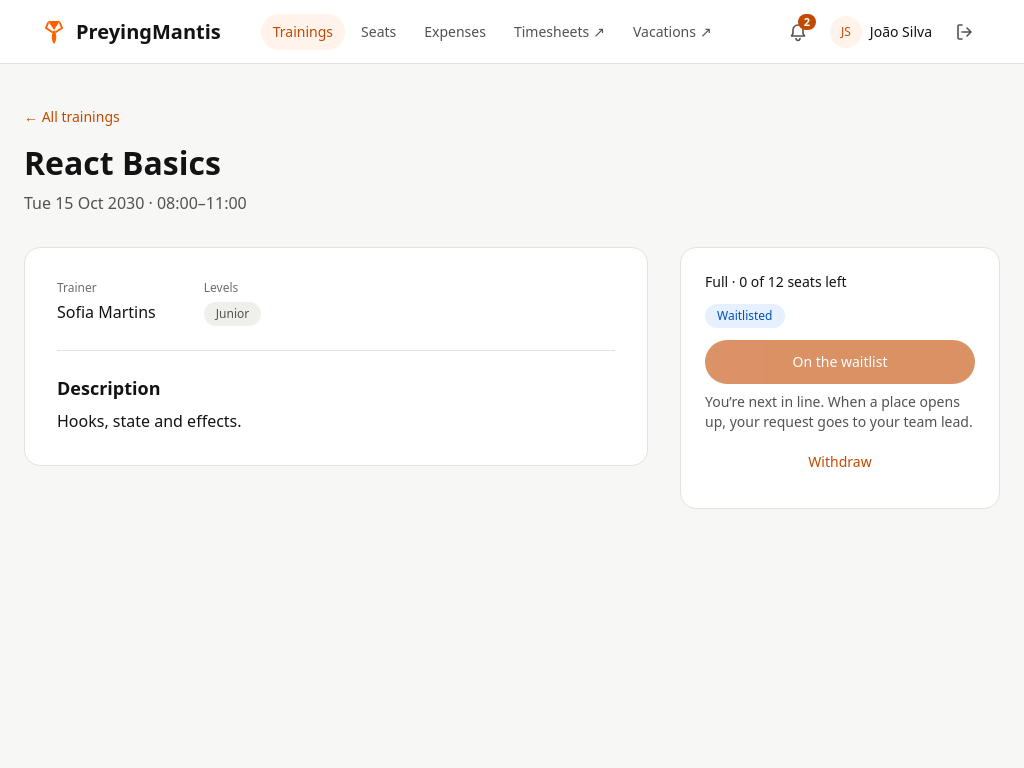
Test case: waitlist › leaves the waitlist
Expected: the text "You’re next in line" is shown, [705,392,973,431]
Click the button "Withdraw".
click(840, 462)  # box [705,440,975,484]
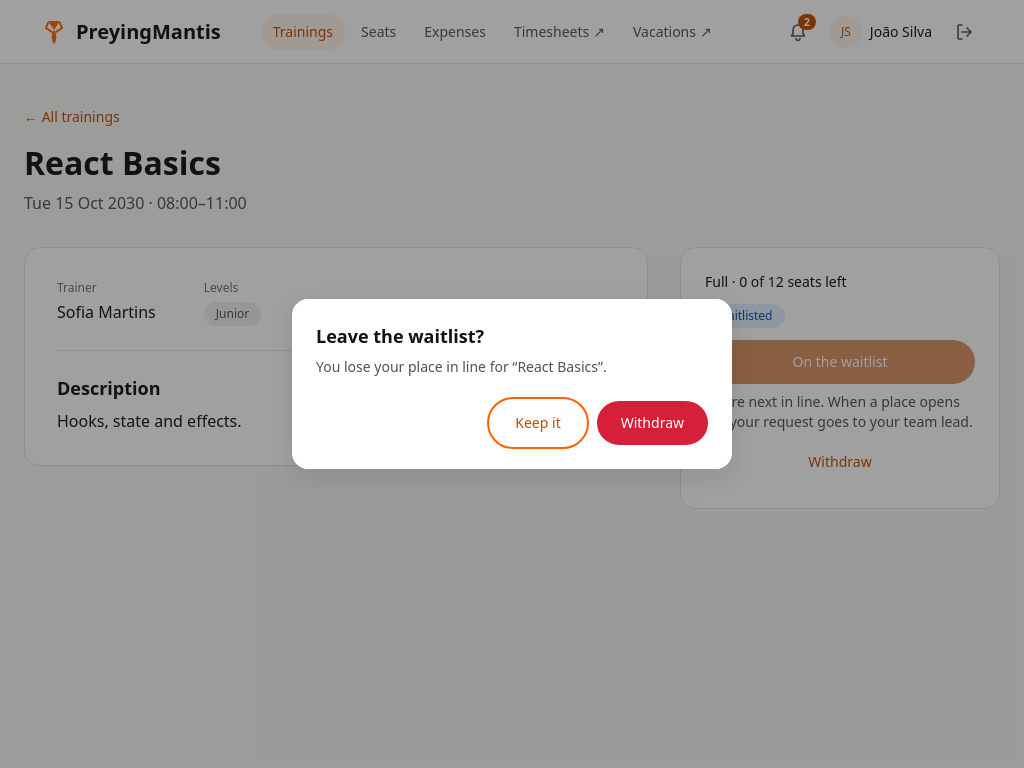
Click the button "Withdraw" below "Leave the waitlist?".
click(652, 423)  # box [597,401,708,445]
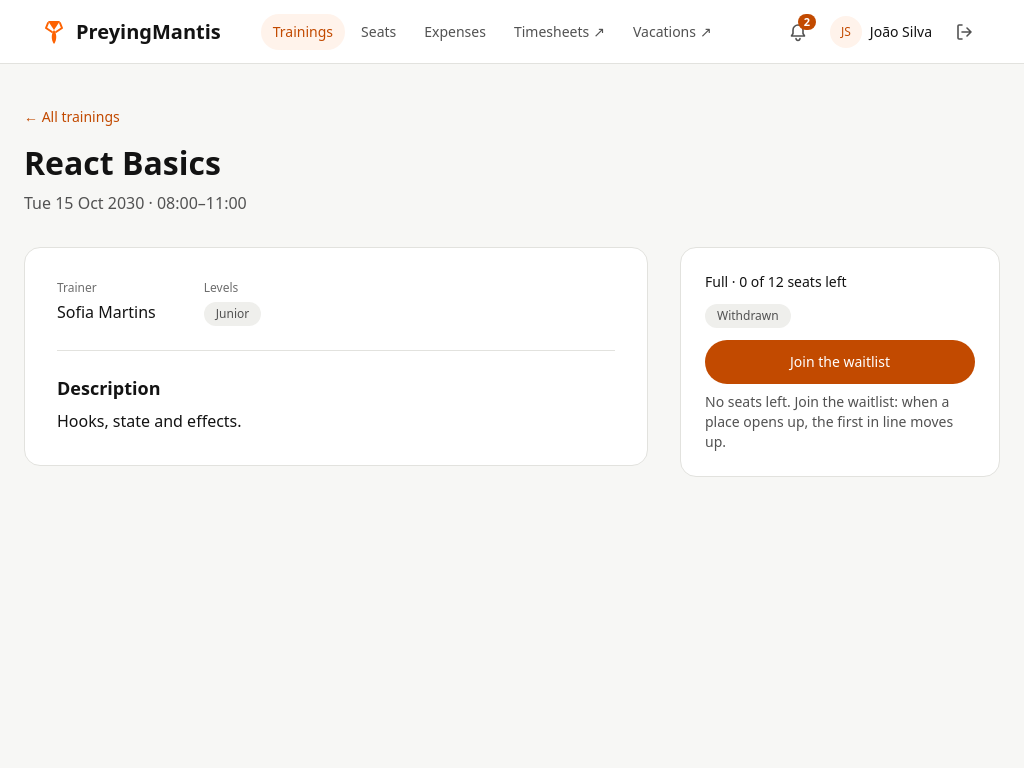
Result: the button "Join the waitlist" is enabled at [705,340,975,384]
